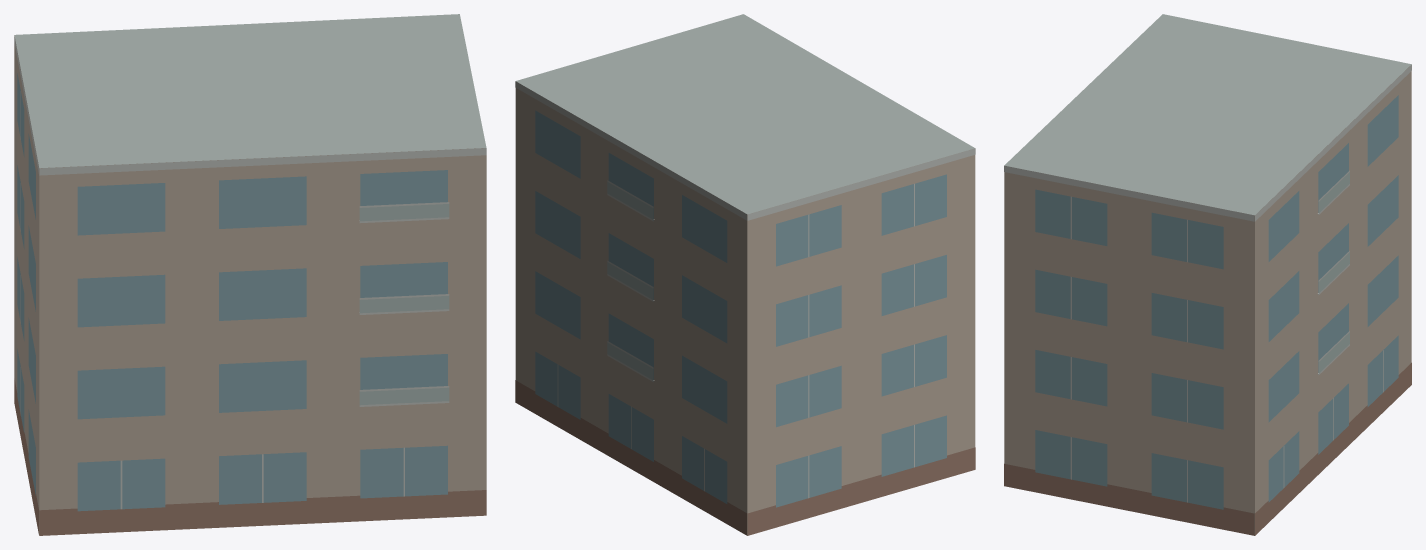
File: survey-upis-32717906.glb
3 views of the same model, side by side, from view 1: azimuth 30°, elevation 25°; view 2: azimuth 150°, elevation 25°; view 3: azimuth 270°, elevation 25° (orthographic). The views are drawn at different scales.
Parts seen in each view (by area): view 1: survey-upis-32717906.tmp; view 2: survey-upis-32717906.tmp; view 3: survey-upis-32717906.tmp.
Part boxes in pixels (x1=…): survey-upis-32717906.tmp: x1=14, y1=14, x2=486, y2=535; survey-upis-32717906.tmp: x1=515, y1=14, x2=975, y2=535; survey-upis-32717906.tmp: x1=1004, y1=14, x2=1411, y2=535.
Bounding box in the file's own units: 16.45 × 12.2 × 14.07.
